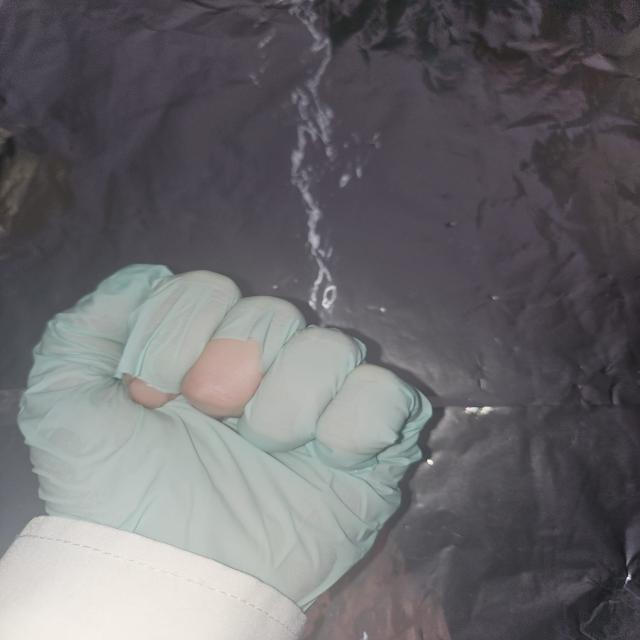gloves_damaged: (14, 262, 434, 605)
